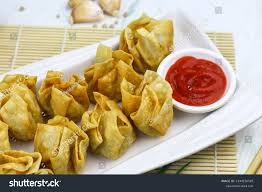Pangsit goreng: (118, 75, 183, 142), (79, 99, 145, 160), (119, 14, 186, 68), (30, 120, 89, 172), (0, 76, 42, 144), (80, 50, 144, 94), (37, 68, 89, 117)
